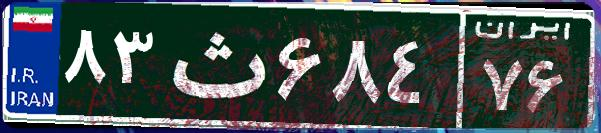3: (110, 28, 158, 105)
4: (385, 28, 445, 110)
6: (273, 28, 330, 110), (525, 38, 570, 115)
7: (475, 38, 525, 113)
8: (330, 28, 385, 110), (57, 26, 110, 107)
ث: (158, 15, 273, 115)
